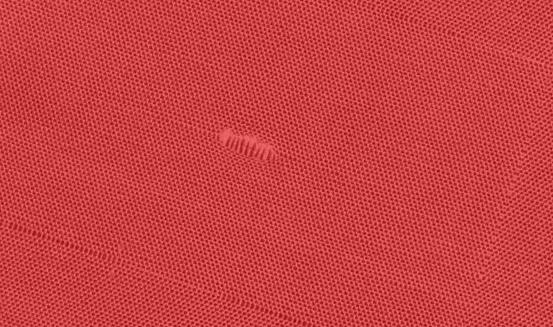slub: (209, 120, 288, 167)
